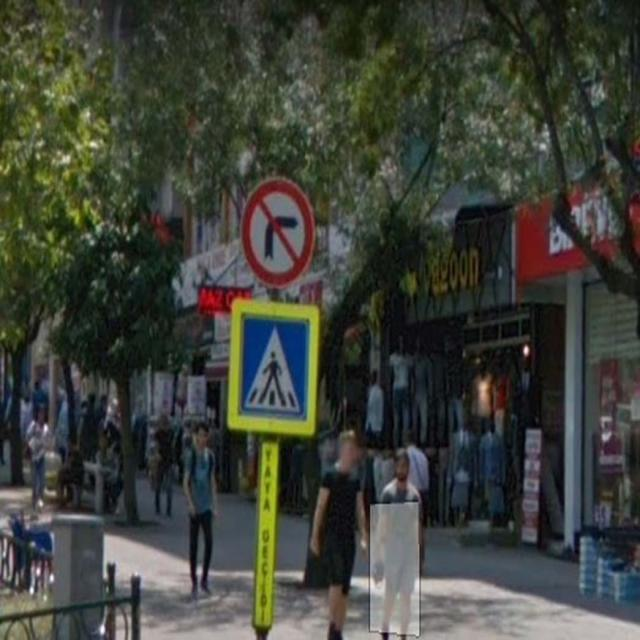sagadonulmez: (242, 175, 315, 288)
